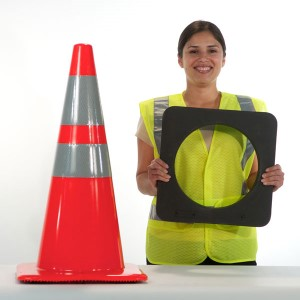traffic cone: (15, 43, 148, 285)
